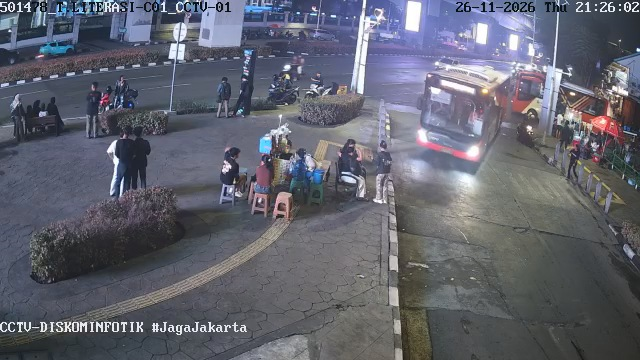Gerobak: (255, 114, 298, 193)
